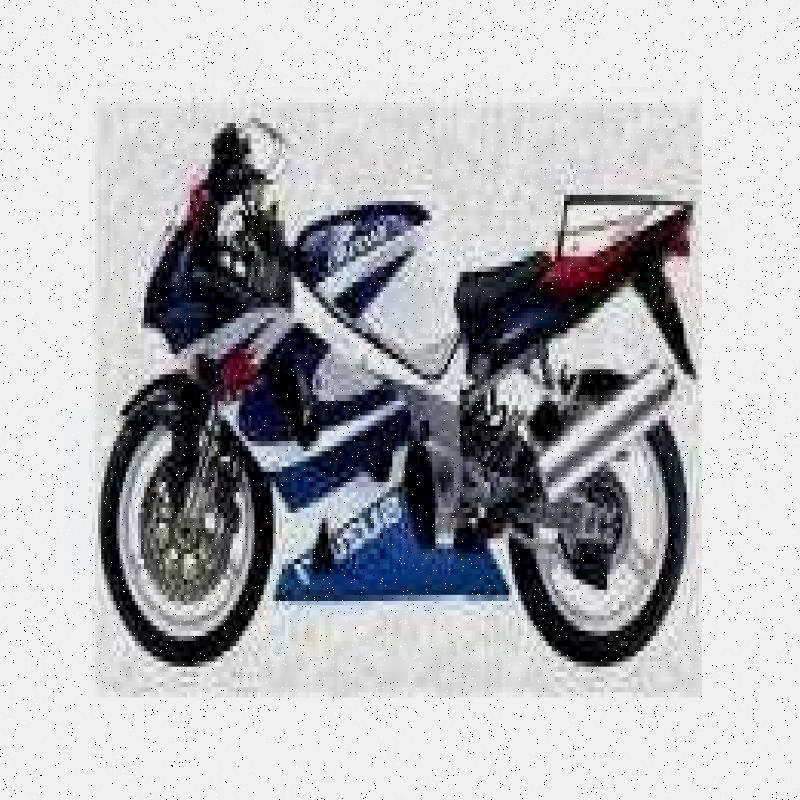bike: (100, 101, 706, 664)
